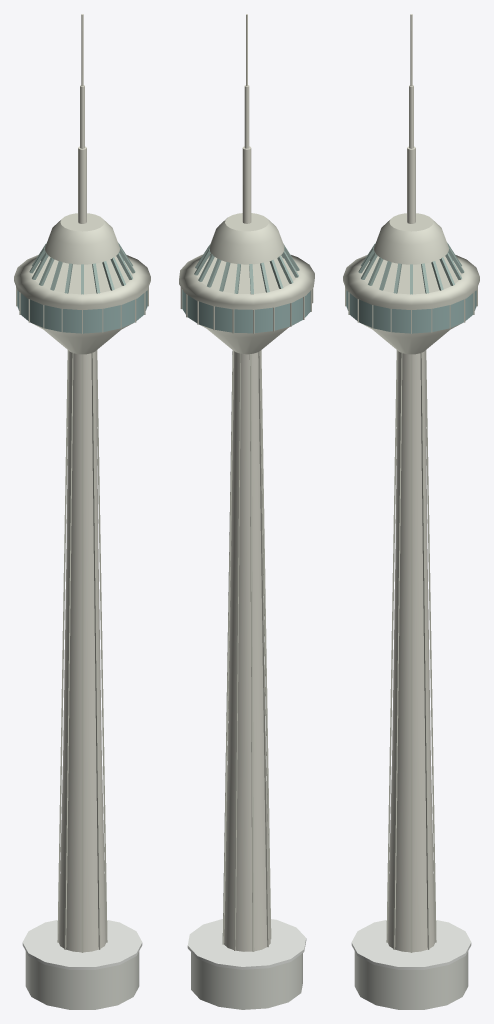
Rendered from LM_ENV_KLTower.glb.
3 views of the same model, side by side, from view 1: azimuth 90°, elevation 25°; view 2: azimuth 150°, elevation 25°; view 3: azimuth 270°, elevation 25° (orthographic).
Parts seen in each view (by area): view 1: KLTower | KL Tower concrete, KLTower | KL Tower pod, KLTower | Podium stone, KLTower | Entrance canopy, KLTower | KL Tower glass, KLTower | KL Tower muqarnas, KLTower | KL Tower mast; view 2: KLTower | KL Tower concrete, KLTower | KL Tower pod, KLTower | Podium stone, KLTower | Entrance canopy, KLTower | KL Tower glass, KLTower | KL Tower muqarnas, KLTower | KL Tower mast; view 3: KLTower | KL Tower concrete, KLTower | KL Tower pod, KLTower | Podium stone, KLTower | Entrance canopy, KLTower | KL Tower glass, KLTower | KL Tower muqarnas, KLTower | KL Tower mast.
Part boxes in pixels (x1,y1,x2,y2): KLTower | KL Tower concrete: [58, 351, 106, 952]; KLTower | KL Tower pod: [14, 213, 150, 952]; KLTower | Podium stone: [25, 951, 139, 1009]; KLTower | Entrance canopy: [22, 920, 142, 969]; KLTower | KL Tower glass: [17, 290, 147, 333]; KLTower | KL Tower muqarnas: [29, 242, 135, 294]; KLTower | KL Tower mast: [78, 14, 86, 223]; KLTower | KL Tower concrete: [224, 351, 270, 951]; KLTower | KL Tower pod: [179, 213, 314, 951]; KLTower | Podium stone: [191, 952, 302, 1009]; KLTower | Entrance canopy: [187, 919, 306, 969]; KLTower | KL Tower glass: [182, 290, 310, 333]; KLTower | KL Tower muqarnas: [194, 244, 299, 294]; KLTower | KL Tower mast: [242, 14, 251, 223]; KLTower | KL Tower concrete: [387, 351, 435, 952]; KLTower | KL Tower pod: [343, 213, 479, 952]; KLTower | Podium stone: [354, 951, 468, 1009]; KLTower | Entrance canopy: [351, 920, 471, 969]; KLTower | KL Tower glass: [346, 290, 476, 333]; KLTower | KL Tower muqarnas: [358, 242, 464, 294]; KLTower | KL Tower mast: [407, 14, 415, 223].
Bounding box in the file's own units: 13 × 102 × 13.
